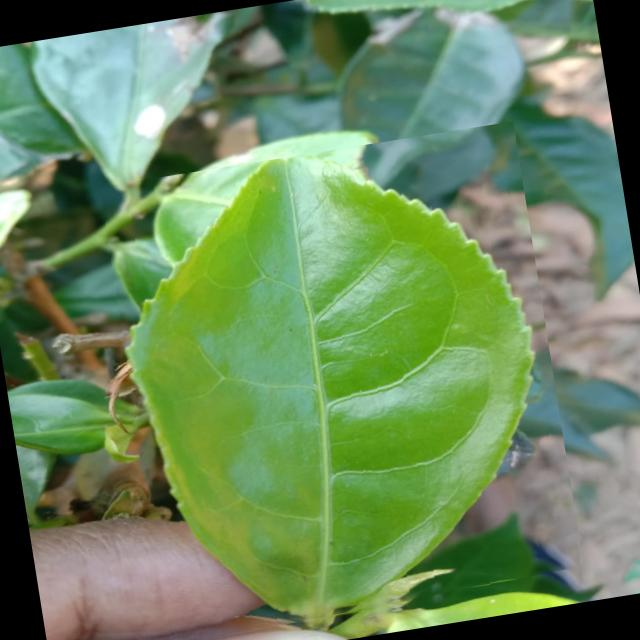Category B(2-4 days): (85, 121, 586, 640)
